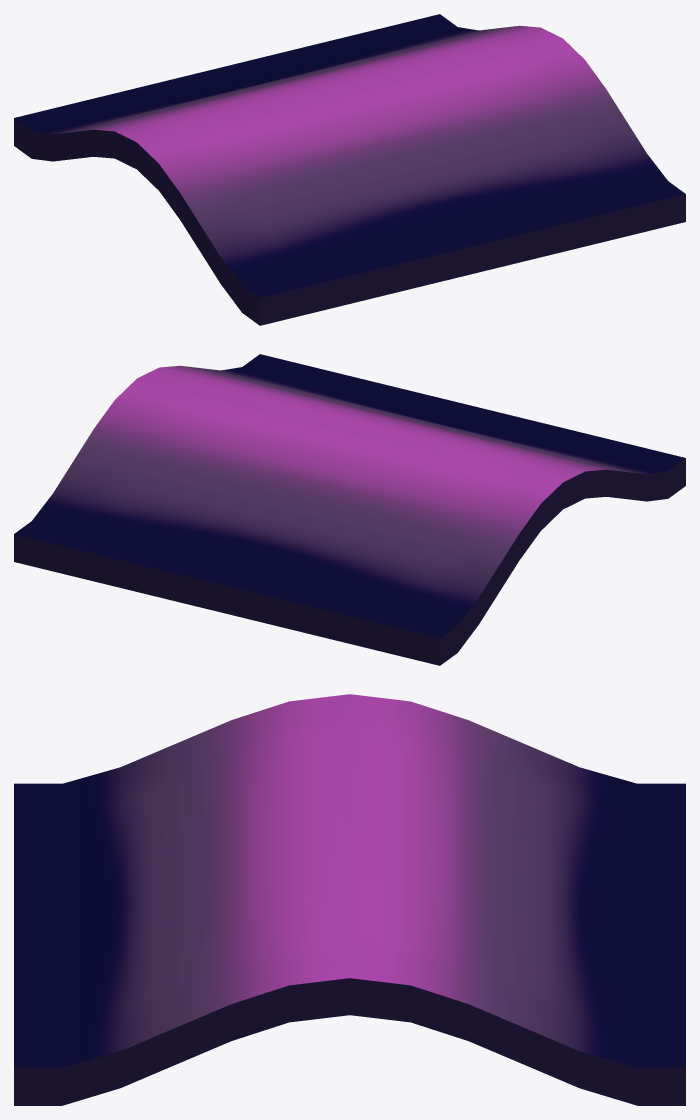
The model's file is urban_bigwave.gltf.
3 views of the same model, one above another, from view 1: azimuth 30°, elevation 25°; view 2: azimuth 150°, elevation 25°; view 3: azimuth 270°, elevation 25° (orthographic). The views are drawn at different scales.
Visible parts, largest first — view 1: urban_bigwave_glb; view 2: urban_bigwave_glb; view 3: urban_bigwave_glb.
Part boxes in pixels (box(x1,y1,x2,y2)): urban_bigwave_glb: box(14, 14, 685, 325); urban_bigwave_glb: box(14, 354, 685, 665); urban_bigwave_glb: box(14, 694, 685, 1105).
Size of what is drawn, in the model's own units: 4 by 0.8385 by 4.
1 material, 1 textured.
